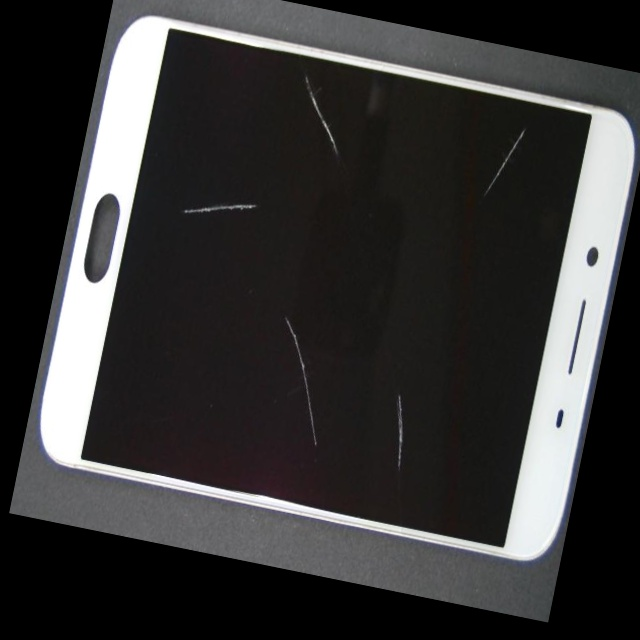scratch: (209, 273, 605, 623), (194, 292, 473, 597), (317, 13, 640, 206), (212, 105, 467, 235), (208, 74, 351, 305)
